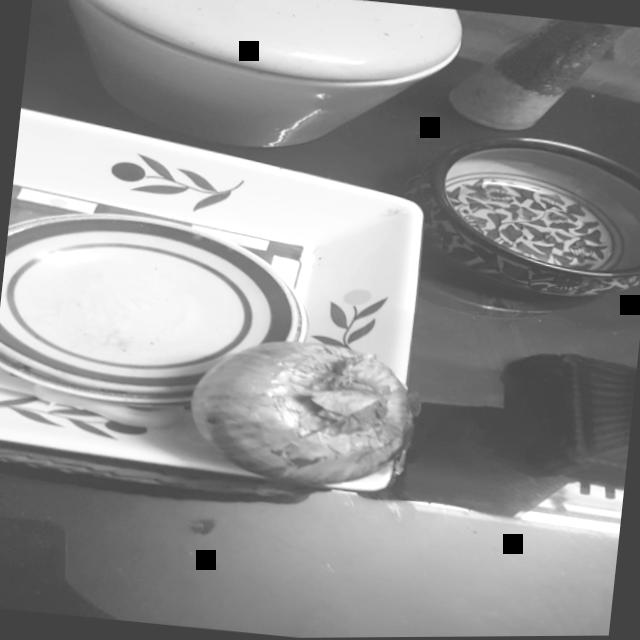onion: (178, 321, 432, 499)
